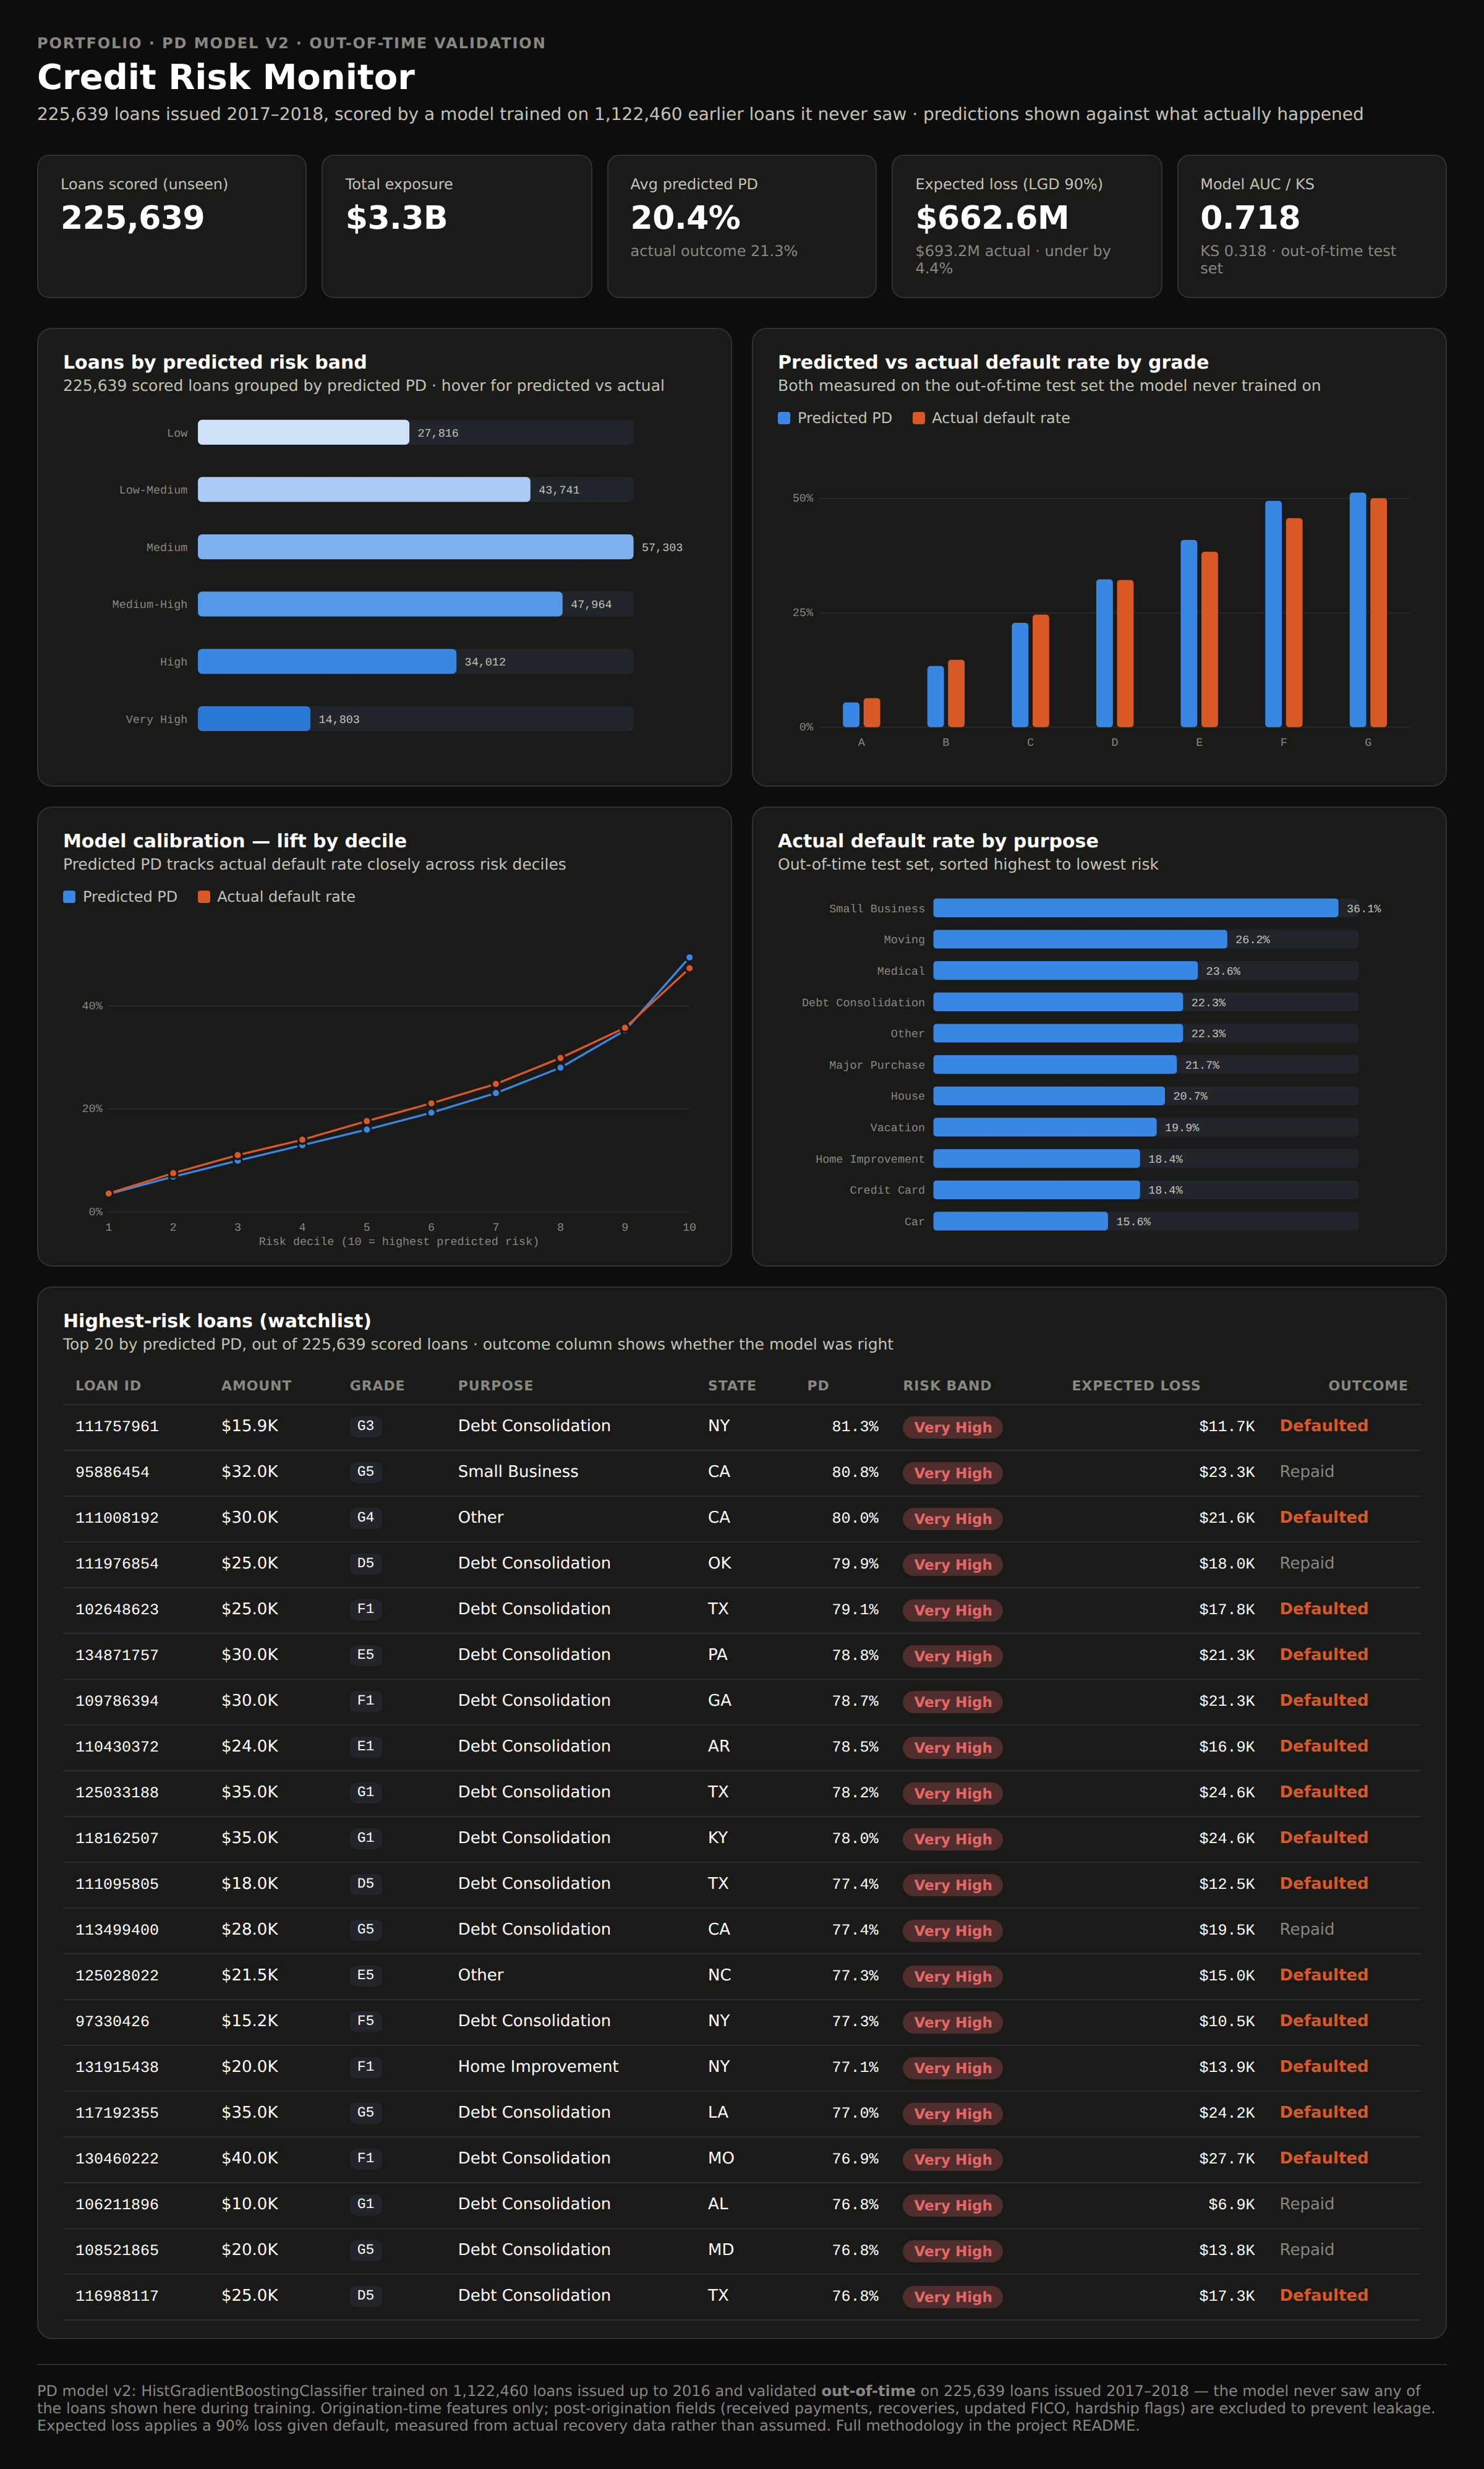

The page's visual inventory and layout, read from the dashboard file:
{"tool":"powerbi","page":{"name":"Model & Risk","canvas":[1280,720],"ordinal":2},"visuals":[{"type":"cardVisual","fields":{"Data":["fact_scored_loans.Actual Default Rate"]},"box":[646,16,303,100],"z":0},{"type":"cardVisual","fields":{"Data":["fact_scored_loans.Avg Predicted PD"]},"box":[331,16,303,100],"z":1000},{"type":"cardVisual","fields":{"Data":["fact_scored_loans.Loans Scored"]},"box":[16,16,303,100],"z":2000},{"type":"cardVisual","fields":{"Data":["fact_scored_loans.Loss Variance"]},"box":[961,16,303,100],"z":3000},{"type":"lineChart","title":"Predicted PD vs Actual Default Rate","fields":{"Category":["agg_model_calibration.decile"],"Y":["Sum(agg_model_calibration.avg_predicted_pd)","Sum(agg_model_calibration.actual_default_rate)"]},"box":[16,128,676,282],"z":4000},{"type":"clusteredColumnChart","title":"Predicted vs Actual Default Rate by Risk Band","fields":{"Category":["agg_risk_band_summary.risk_band"],"Y":["Sum(agg_risk_band_summary.avg_predicted_pd)","Sum(agg_risk_band_summary.actual_default_rate)"]},"box":[16,422,676,282],"z":5000},{"type":"tableEx","title":"Highest-Risk Loans","fields":{"Values":["fact_scored_loans.loan_id","fact_scored_loans.sub_grade","fact_scored_loans.funded_amnt","fact_scored_loans.state","fact_scored_loans.predicted_pd","fact_scored_loans.actual_default"]},"box":[704,128,560,576],"z":6000}]}

Visuals, with their boxes on the page's 1280x720 design canvas (x1, y1, x2, y2). These are canvas units, not pixel positions in the 1484x2469 screenshot, which may show the page scaled, cropped or inside an application window:
cardVisual - fact_scored_loans.Actual Default Rate: [x1=646, y1=16, x2=949, y2=116]
cardVisual - fact_scored_loans.Avg Predicted PD: [x1=331, y1=16, x2=634, y2=116]
cardVisual - fact_scored_loans.Loans Scored: [x1=16, y1=16, x2=319, y2=116]
cardVisual - fact_scored_loans.Loss Variance: [x1=961, y1=16, x2=1264, y2=116]
"Predicted PD vs Actual Default Rate" lineChart: [x1=16, y1=128, x2=692, y2=410]
"Predicted vs Actual Default Rate by Risk Band" clusteredColumnChart: [x1=16, y1=422, x2=692, y2=704]
"Highest-Risk Loans" tableEx: [x1=704, y1=128, x2=1264, y2=704]
